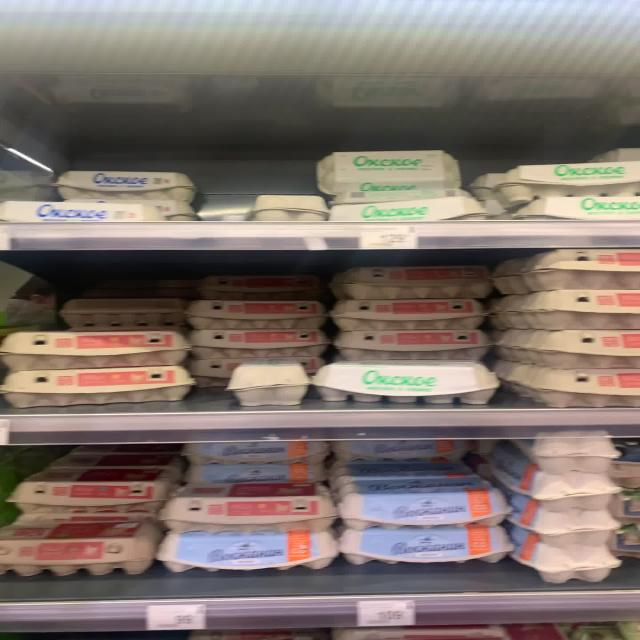egg box: (308, 356, 501, 405), (337, 476, 509, 530), (1, 520, 163, 576), (2, 365, 194, 410), (156, 527, 336, 575), (158, 480, 334, 529), (0, 330, 186, 373), (4, 469, 174, 513), (316, 148, 460, 196), (338, 526, 514, 565), (496, 162, 639, 208), (333, 264, 490, 299), (54, 169, 196, 206), (330, 192, 484, 226), (331, 298, 487, 331), (187, 297, 326, 331), (336, 330, 492, 358), (187, 330, 330, 358), (513, 195, 639, 221), (199, 274, 323, 298)
